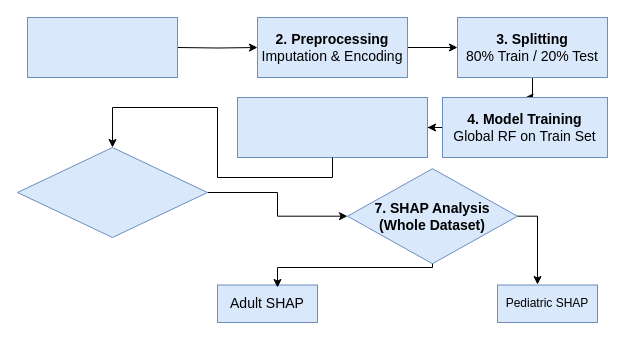
This 625x340 diagram has some shape labels left out. The shapes that lost their labels are listed below. From the top down, each one's box as (x1, y1, x2, y2) in pixels, then its label:
(26, 16, 178, 78): 1. Data Ingestion Moon 2023 Dataset
(236, 96, 428, 158): 5. Evaluation Global Performance Metrics
(16, 146, 208, 238): 6. Age-Stratification Partitioning Cohorts
